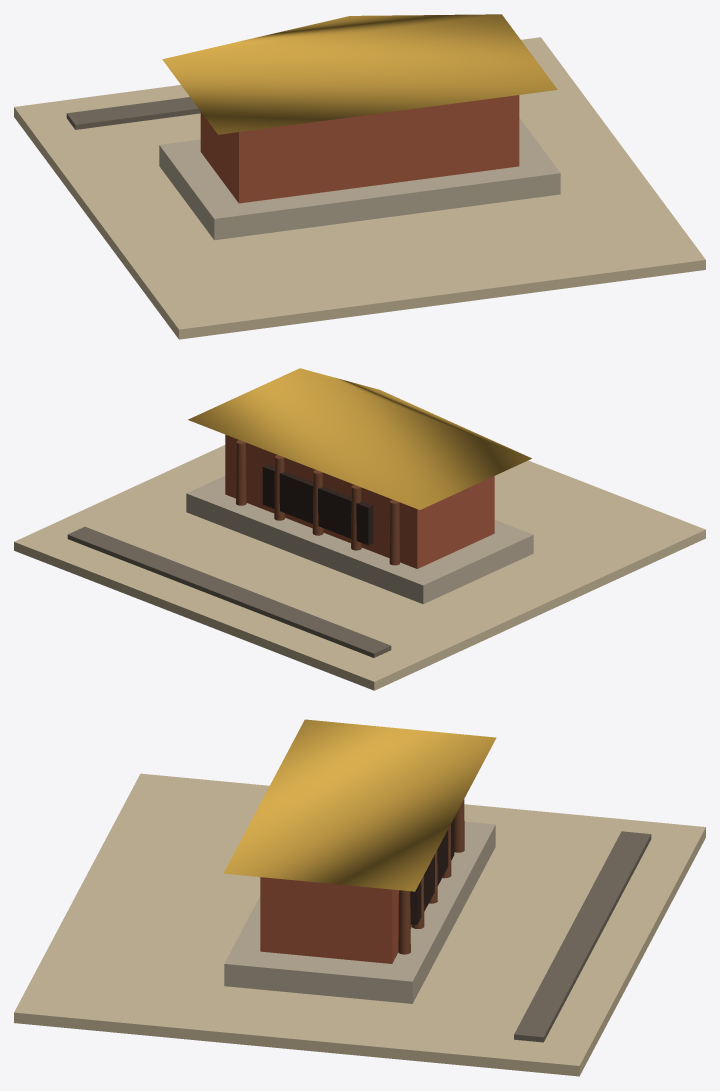
File: model-medium.glb
The picture shows the model from 3 angles, top to bottom: view 1: azimuth 30°, elevation 25°; view 2: azimuth 150°, elevation 25°; view 3: azimuth 270°, elevation 25°; orthographic projection. The views are drawn at different scales.
Visible parts, largest first — view 1: context_site_plinth, sweeping_tiled_roof, main_hall_wall_volume, raised_ceremonial_platform, front_scale_strip; view 2: context_site_plinth, sweeping_tiled_roof, raised_ceremonial_platform, main_hall_wall_volume, front_scale_strip, central_shadow_door, front_column_5, front_column_1, front_column_2, front_column_4; view 3: context_site_plinth, sweeping_tiled_roof, raised_ceremonial_platform, main_hall_wall_volume, front_scale_strip, central_shadow_door, front_column_5.
Boxes of the visible parts, <box> form: context_site_plinth: <box>14,37,705,339</box>; sweeping_tiled_roof: <box>162,14,557,134</box>; main_hall_wall_volume: <box>200,95,519,203</box>; raised_ceremonial_platform: <box>159,118,560,240</box>; front_scale_strip: <box>66,97,200,129</box>; context_site_plinth: <box>14,445,705,690</box>; sweeping_tiled_roof: <box>188,368,531,509</box>; raised_ceremonial_platform: <box>186,476,533,604</box>; main_hall_wall_volume: <box>225,434,494,568</box>; front_scale_strip: <box>67,526,391,657</box>; central_shadow_door: <box>262,464,373,545</box>; front_column_5: <box>236,440,246,505</box>; front_column_1: <box>389,500,399,565</box>; front_column_2: <box>351,485,361,550</box>; front_column_4: <box>274,455,284,520</box>; context_site_plinth: <box>14,773,705,1076</box>; sweeping_tiled_roof: <box>223,719,496,891</box>; raised_ceremonial_platform: <box>224,821,495,1003</box>; main_hall_wall_volume: <box>260,877,411,963</box>; front_scale_strip: <box>514,831,651,1042</box>; central_shadow_door: <box>410,818,454,924</box>; front_column_5: <box>398,890,410,954</box>.
Size of the model in its own units: 9.55 by 2.62 by 9.55.
